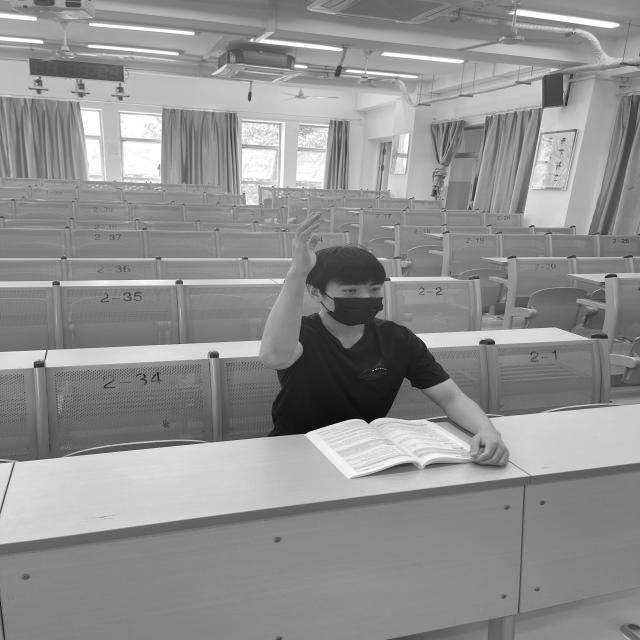study: (260, 210, 508, 469)
